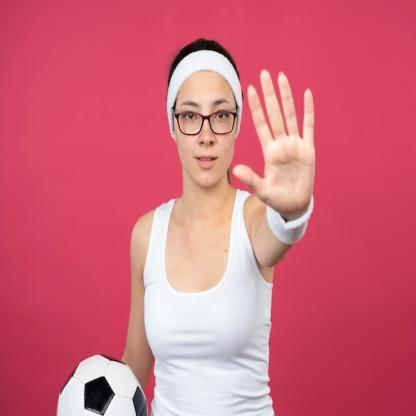stop: (232, 66, 318, 210)
